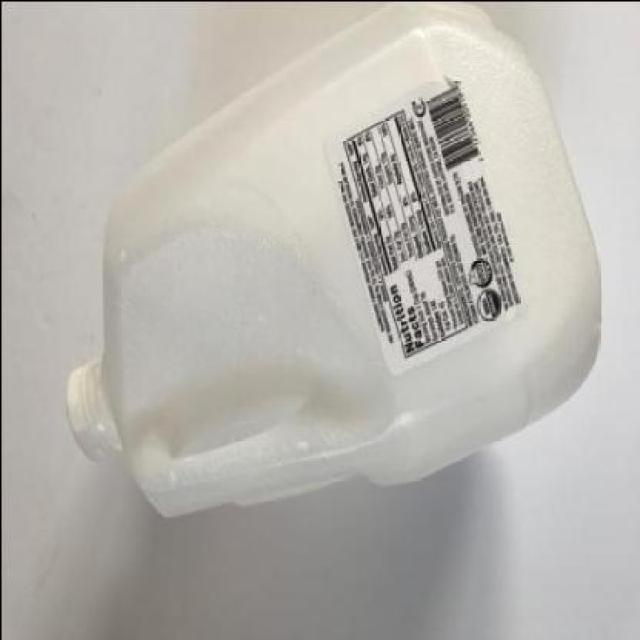PLASTIC: (60, 1, 600, 522), (62, 357, 121, 458)
